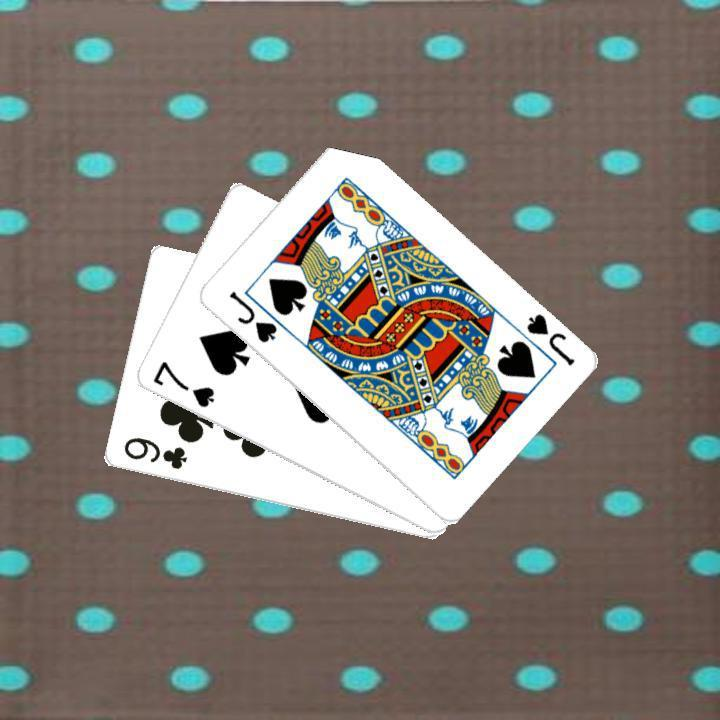7: (147, 357, 216, 410)
9: (118, 433, 189, 472)
J: (521, 309, 577, 368), (224, 286, 279, 345)
